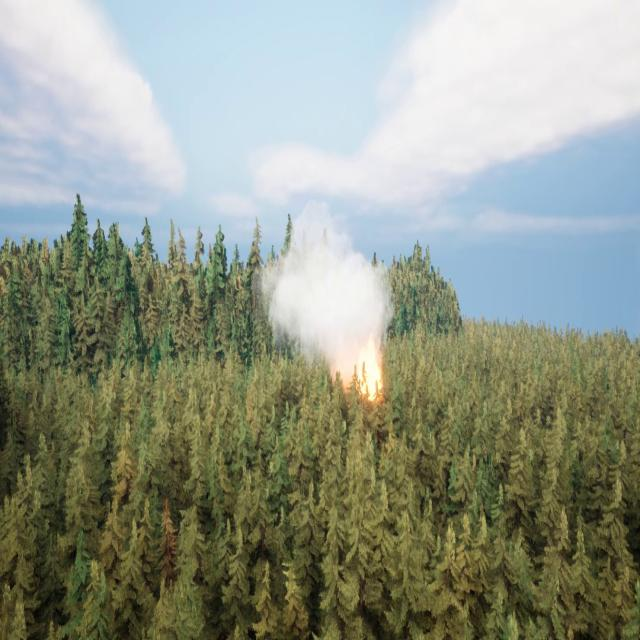fire: (351, 323, 385, 406)
smoke: (256, 203, 389, 401)
